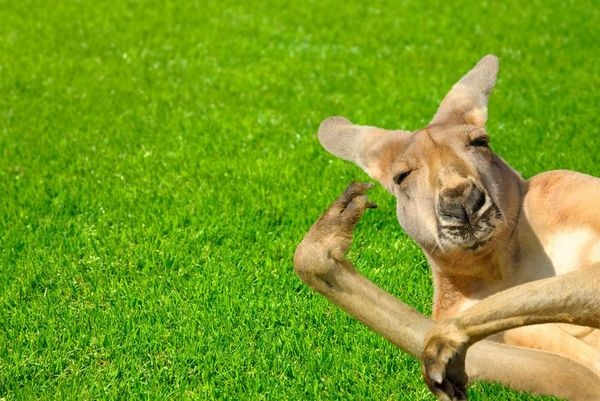kangaroo: (292, 55, 600, 398)
